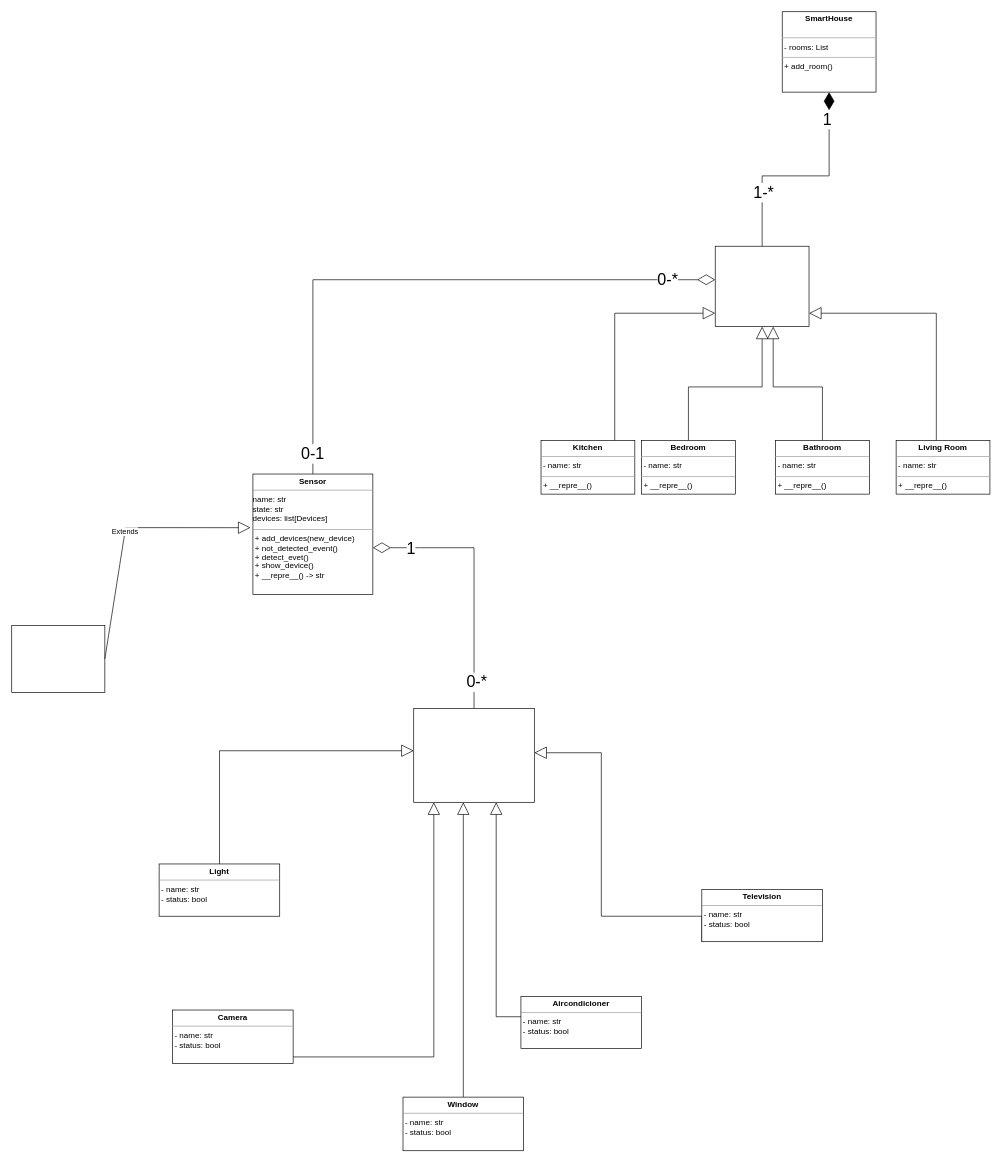
Image size: 1002x1162. Some labels were removed from this diagram. The box of each missing label's shape, as (x1, y1, x2, y2) in pixels:
Room - sensors: List + add_sensor(): (715, 246, 809, 327)
Smart House Devices - name: str - status: bool + on() + off() + __repre__(): (413, 708, 534, 802)
TemperatureSensor - temperature : int + detect_event(): (11, 625, 105, 692)
